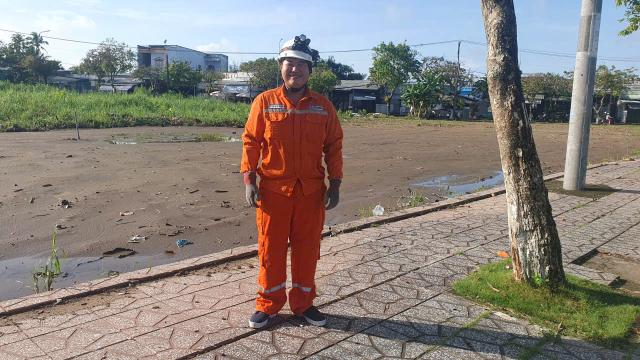gloves: (236, 175, 266, 217), (318, 173, 346, 212)
helmet: (278, 25, 317, 70)
shoes: (228, 302, 278, 334), (287, 297, 328, 330)
